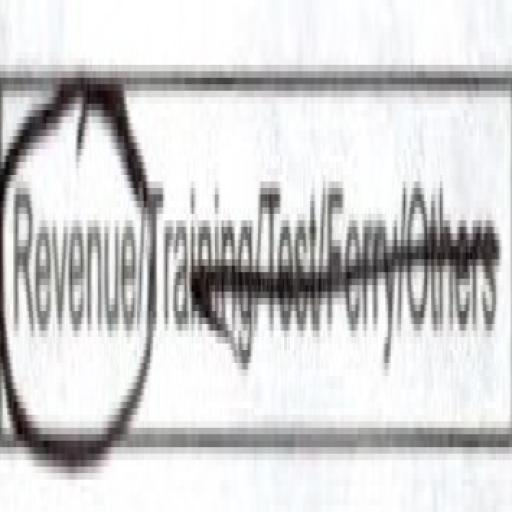check: (0, 30, 145, 486)
